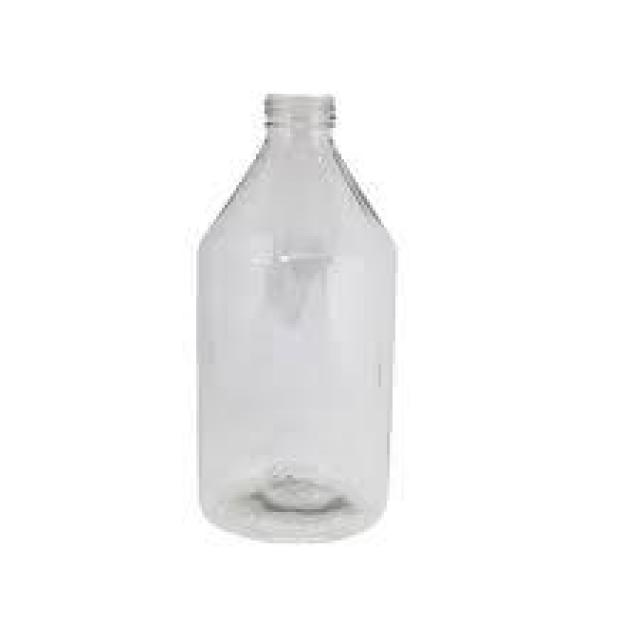bottle: (190, 92, 401, 550)
